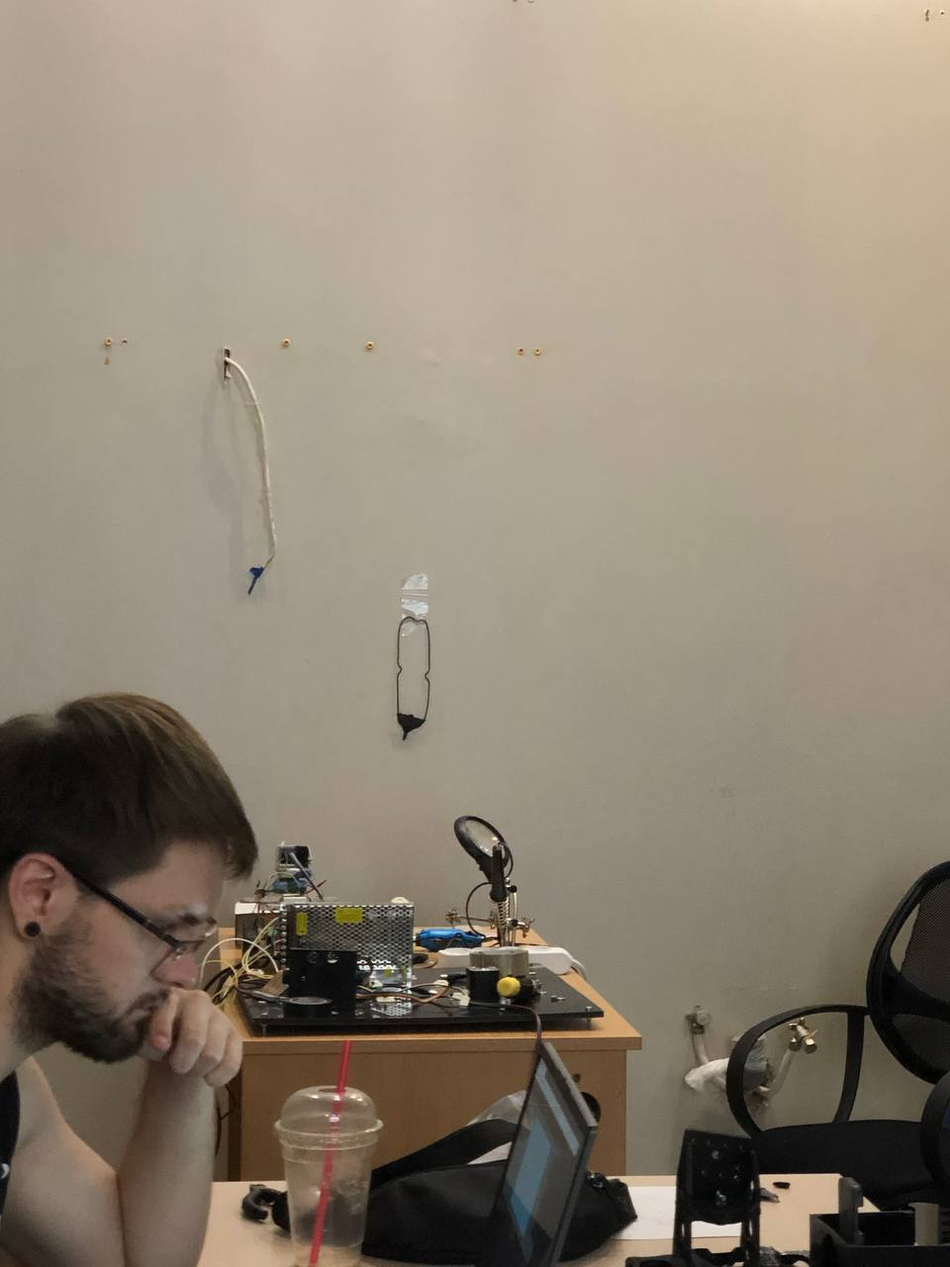shahed: (395, 711, 427, 742)
